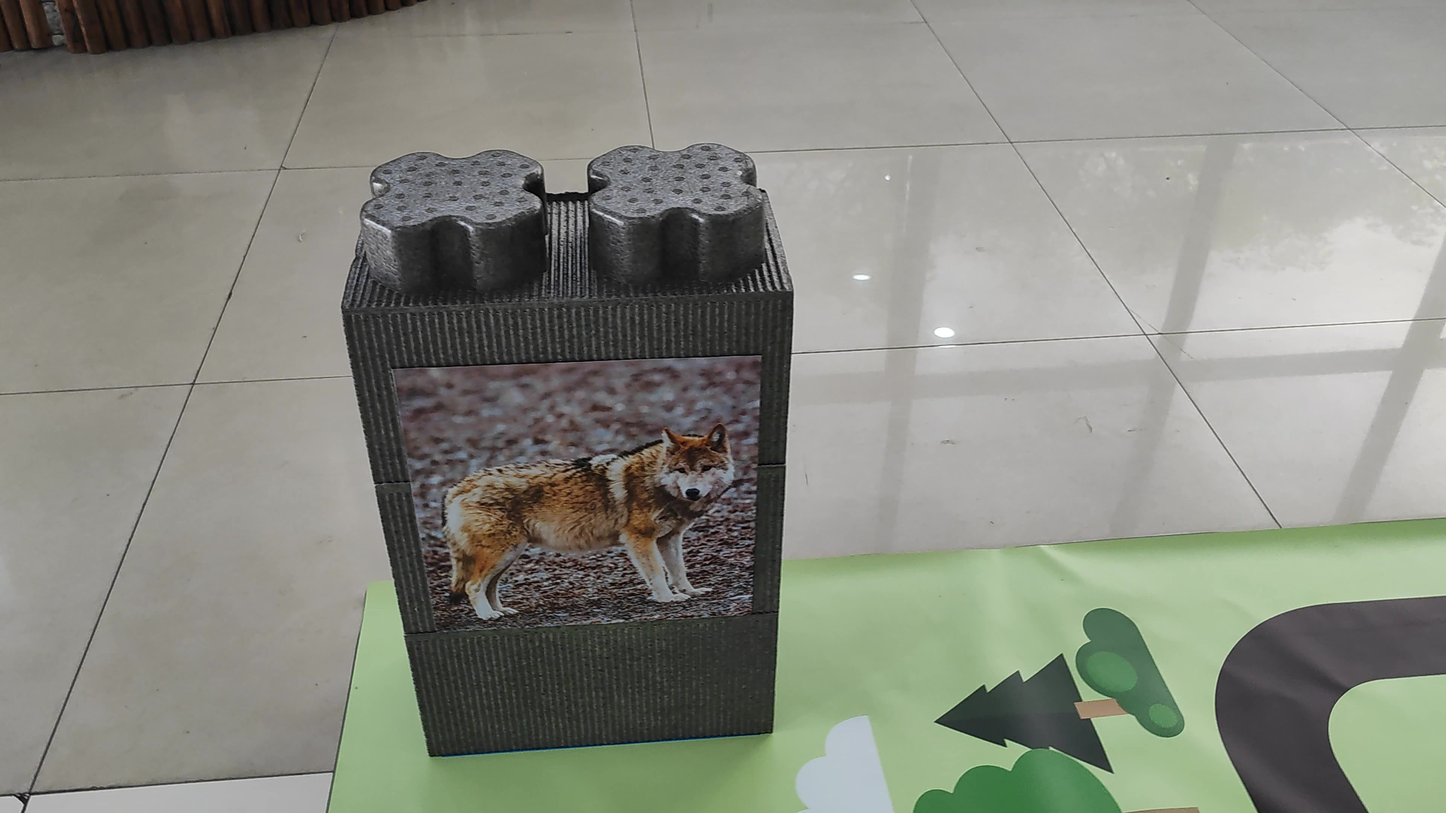wolf: (431, 408, 739, 628)
